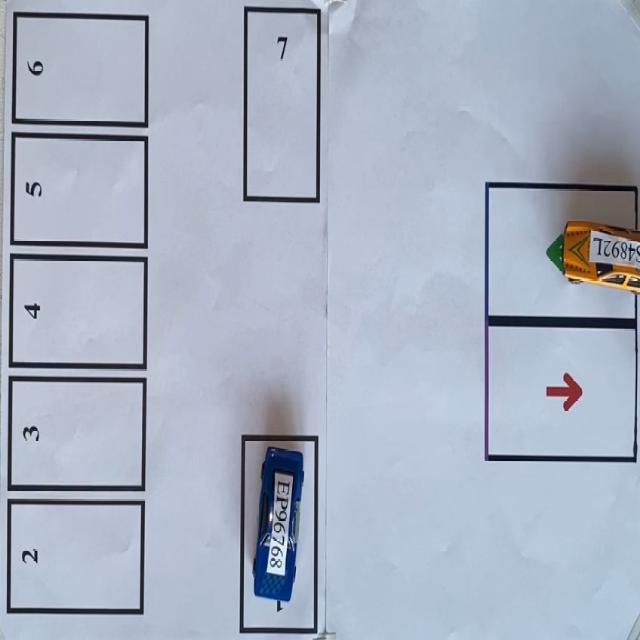car: (254, 447, 303, 603), (562, 221, 639, 293)
